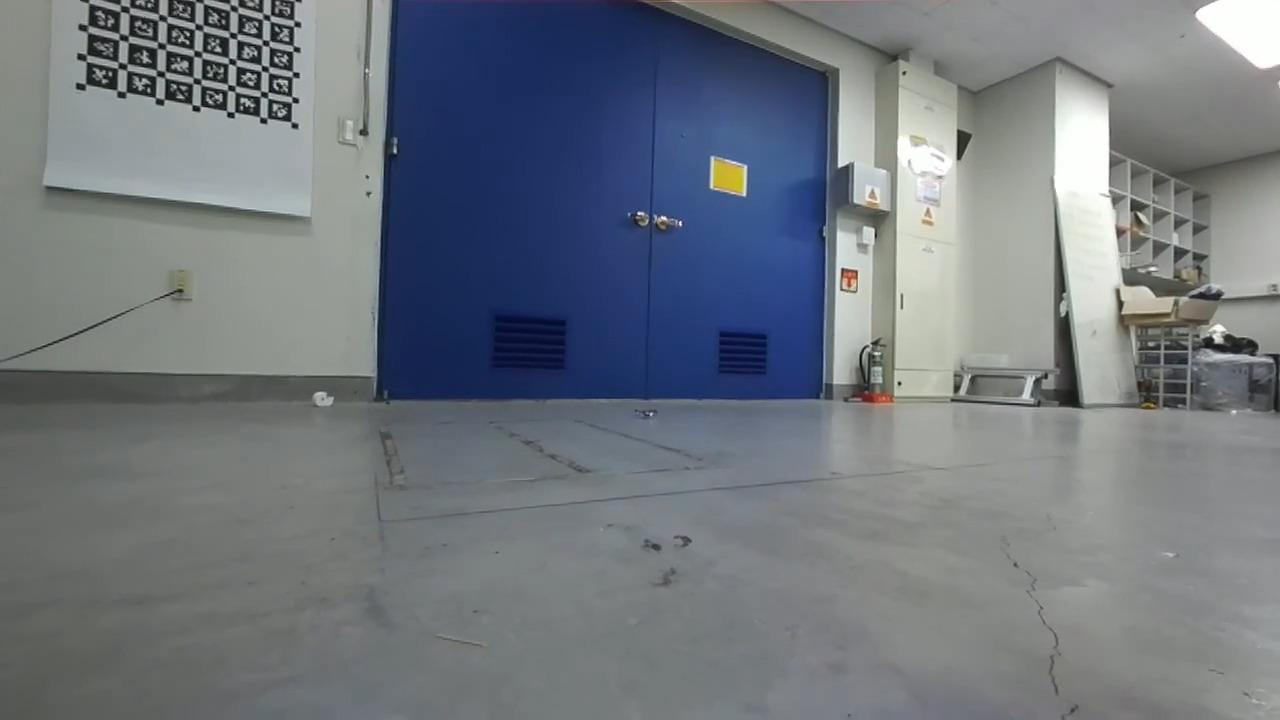crazyflie: (622, 401, 674, 427)
